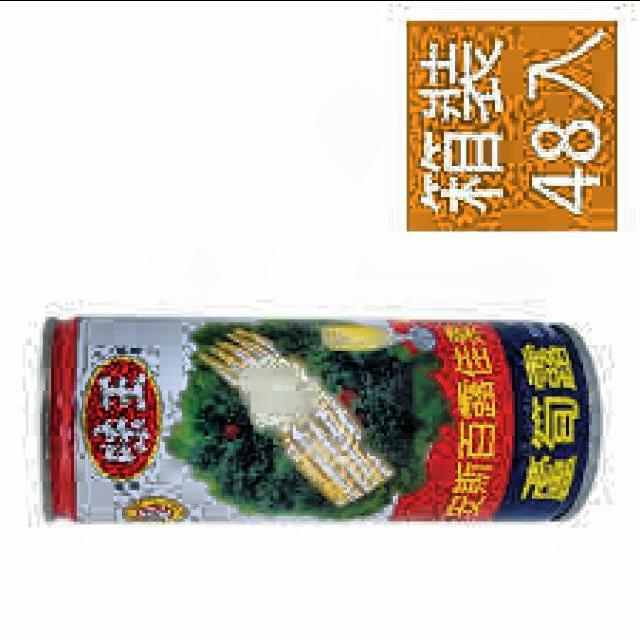litter: (26, 308, 608, 544)
